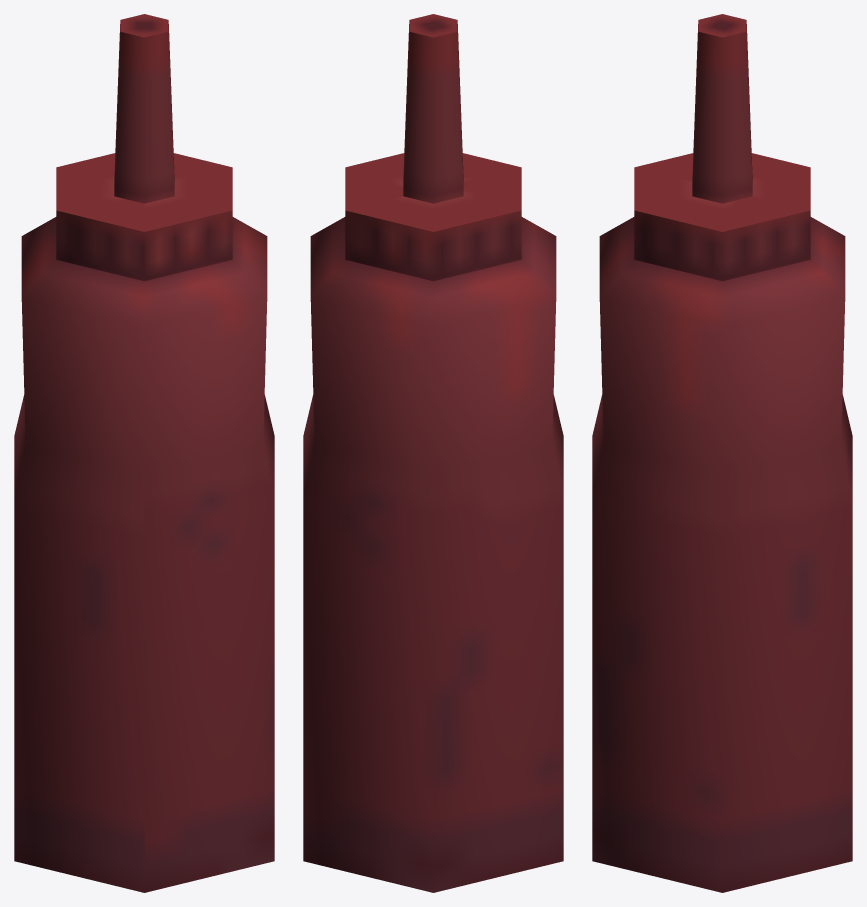
Rendered from Pixel_Misc_S_0040.fbx.
The picture shows the model from 3 angles, left to right: view 1: azimuth 30°, elevation 25°; view 2: azimuth 150°, elevation 25°; view 3: azimuth 270°, elevation 25°; orthographic projection.
Parts seen in each view (by area): view 1: Pixel_Misc_S_0040; view 2: Pixel_Misc_S_0040; view 3: Pixel_Misc_S_0040.
Part boxes in pixels (x1,y1,x2,y2): Pixel_Misc_S_0040: (14,14,274,892); Pixel_Misc_S_0040: (303,14,563,892); Pixel_Misc_S_0040: (592,14,852,892).
Size of the model in its own units: 14 by 41.25 by 12.12.
